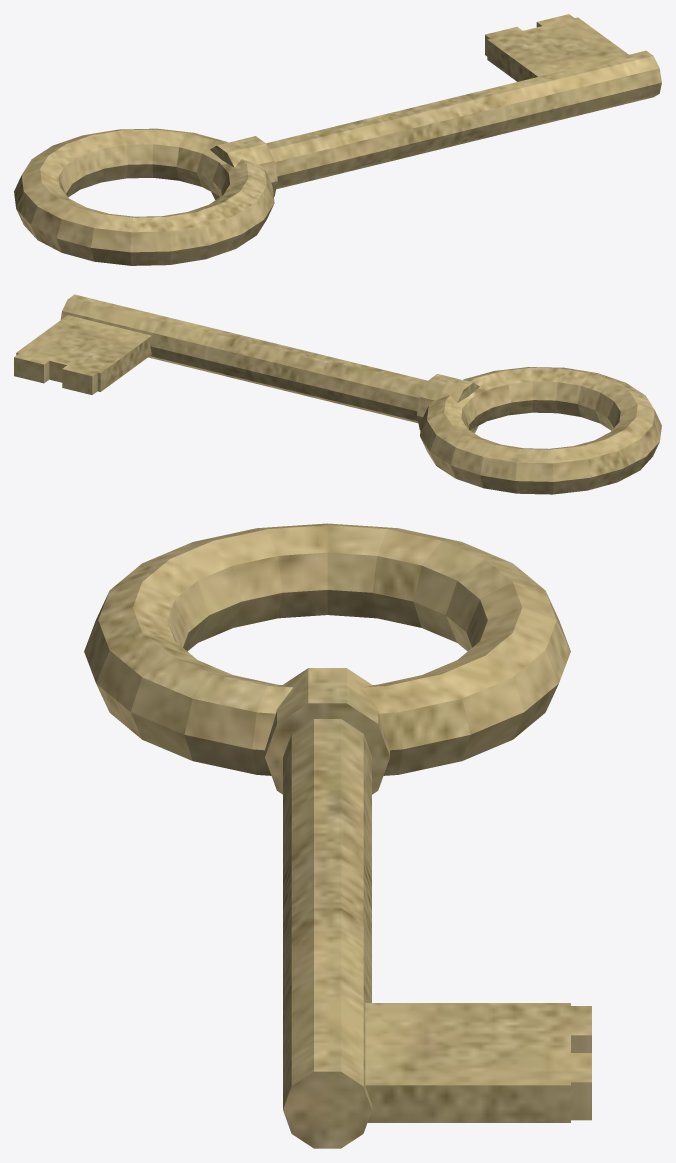
Rendered from old-key.glb.
3 renders of one model, top to bottom at view 1: azimuth 30°, elevation 25°; view 2: azimuth 150°, elevation 25°; view 3: azimuth 270°, elevation 25°, orthographic. The views are drawn at different scales.
Visible parts, largest first — view 1: Key; view 2: Key; view 3: Key.
Boxes of the visible parts, x1,y1,x2,y2 form: Key: (14, 14, 661, 265); Key: (14, 294, 661, 494); Key: (84, 523, 591, 1148).
Bounding box in the file's own units: 0.0955 × 0.00856 × 0.0365.
1 material, 1 textured.
